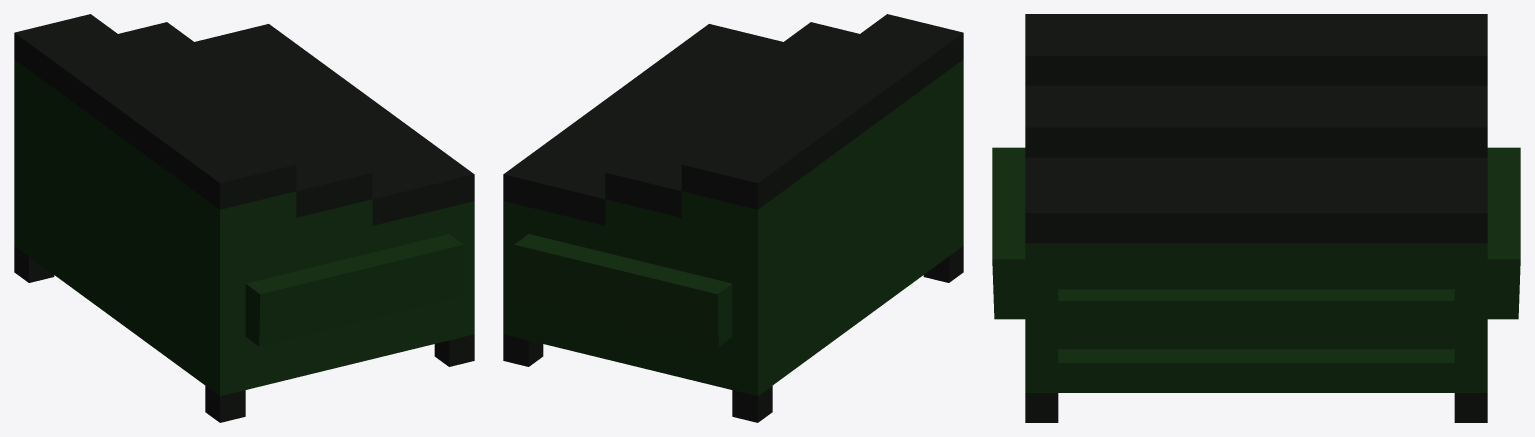
Rendered from Bin_Mesh_001.fbx.
3 renders of one model, left to right at view 1: azimuth 30°, elevation 25°; view 2: azimuth 150°, elevation 25°; view 3: azimuth 270°, elevation 25°, orthographic. The views are drawn at different scales.
Parts seen in each view (by area): view 1: Bin_001; view 2: Bin_001; view 3: Bin_001.
Boxes of the visible parts, <box> form: Bin_001: <box>14,14,474,422</box>; Bin_001: <box>503,14,963,422</box>; Bin_001: <box>992,14,1520,422</box>.
Bounding box in the file's own units: 1 × 0.9 × 1.6.
